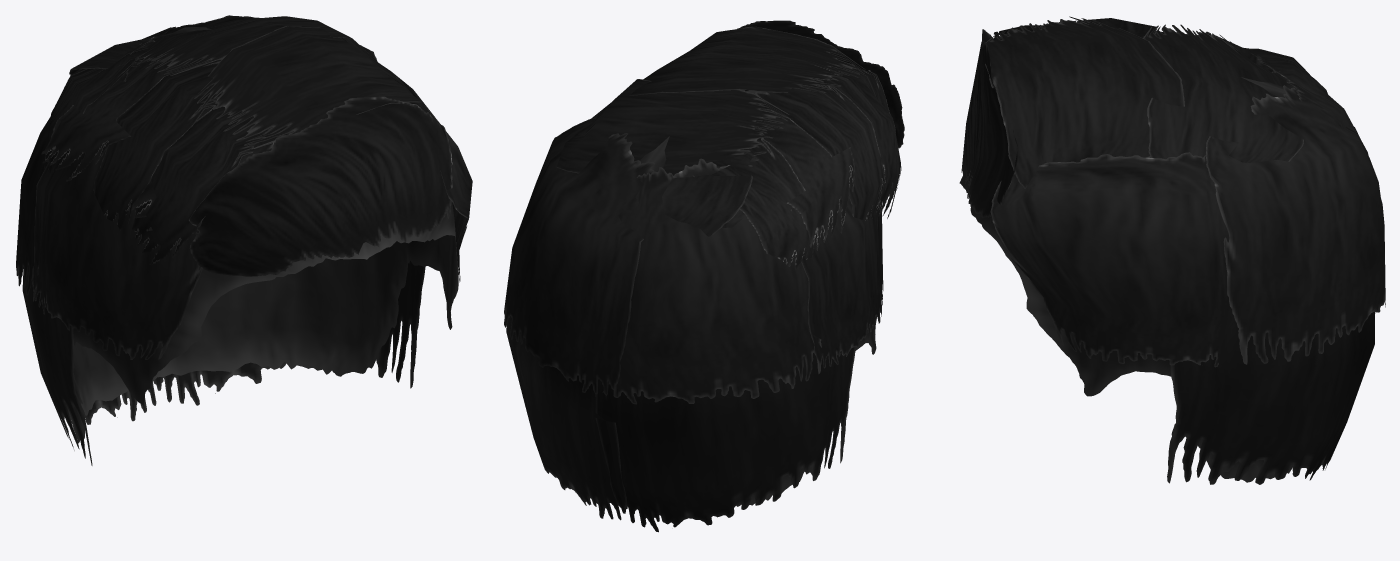
File: hair_003.fbx
3 renders of one model, left to right at view 1: azimuth 30°, elevation 25°; view 2: azimuth 150°, elevation 25°; view 3: azimuth 270°, elevation 25°, orthographic. The views are drawn at different scales.
Parts seen in each view (by area): view 1: hair_003; view 2: hair_003; view 3: hair_003.
Part boxes in pixels (x1,y1,x2,y2): hair_003: (16,15,472,465); hair_003: (504,20,904,532); hair_003: (959,16,1385,484).
Bounding box in the file's own units: 18.69 × 23.72 × 21.62.
